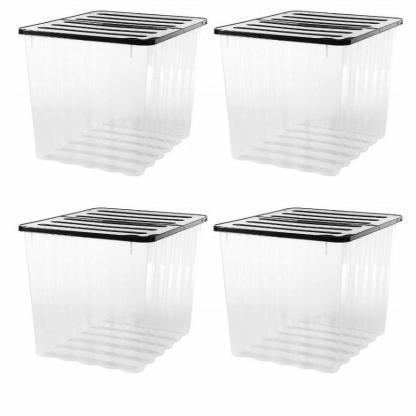plastic_box: (209, 191, 412, 388), (9, 0, 209, 184)
